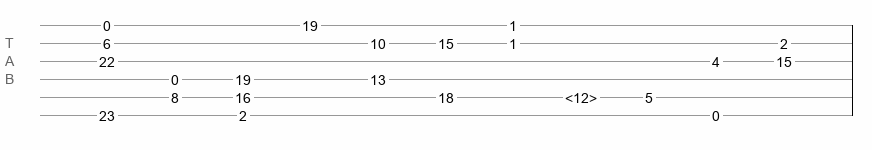0: (103, 18, 111, 28), (171, 72, 179, 82), (712, 108, 720, 118)
1: (509, 18, 517, 28), (509, 36, 517, 46)
10: (370, 36, 386, 46)
13: (370, 72, 386, 82)
15: (438, 36, 454, 46), (776, 54, 792, 64)
16: (235, 90, 251, 100)
18: (438, 90, 454, 100)
19: (235, 72, 251, 82), (302, 18, 318, 28)
2: (239, 108, 247, 118), (780, 36, 788, 46)
22: (99, 54, 115, 64)
23: (99, 108, 115, 118)
4: (712, 54, 720, 64)
5: (645, 90, 653, 100)
6: (103, 36, 111, 46)
8: (171, 90, 179, 100)
harmonic: (565, 90, 597, 100)
